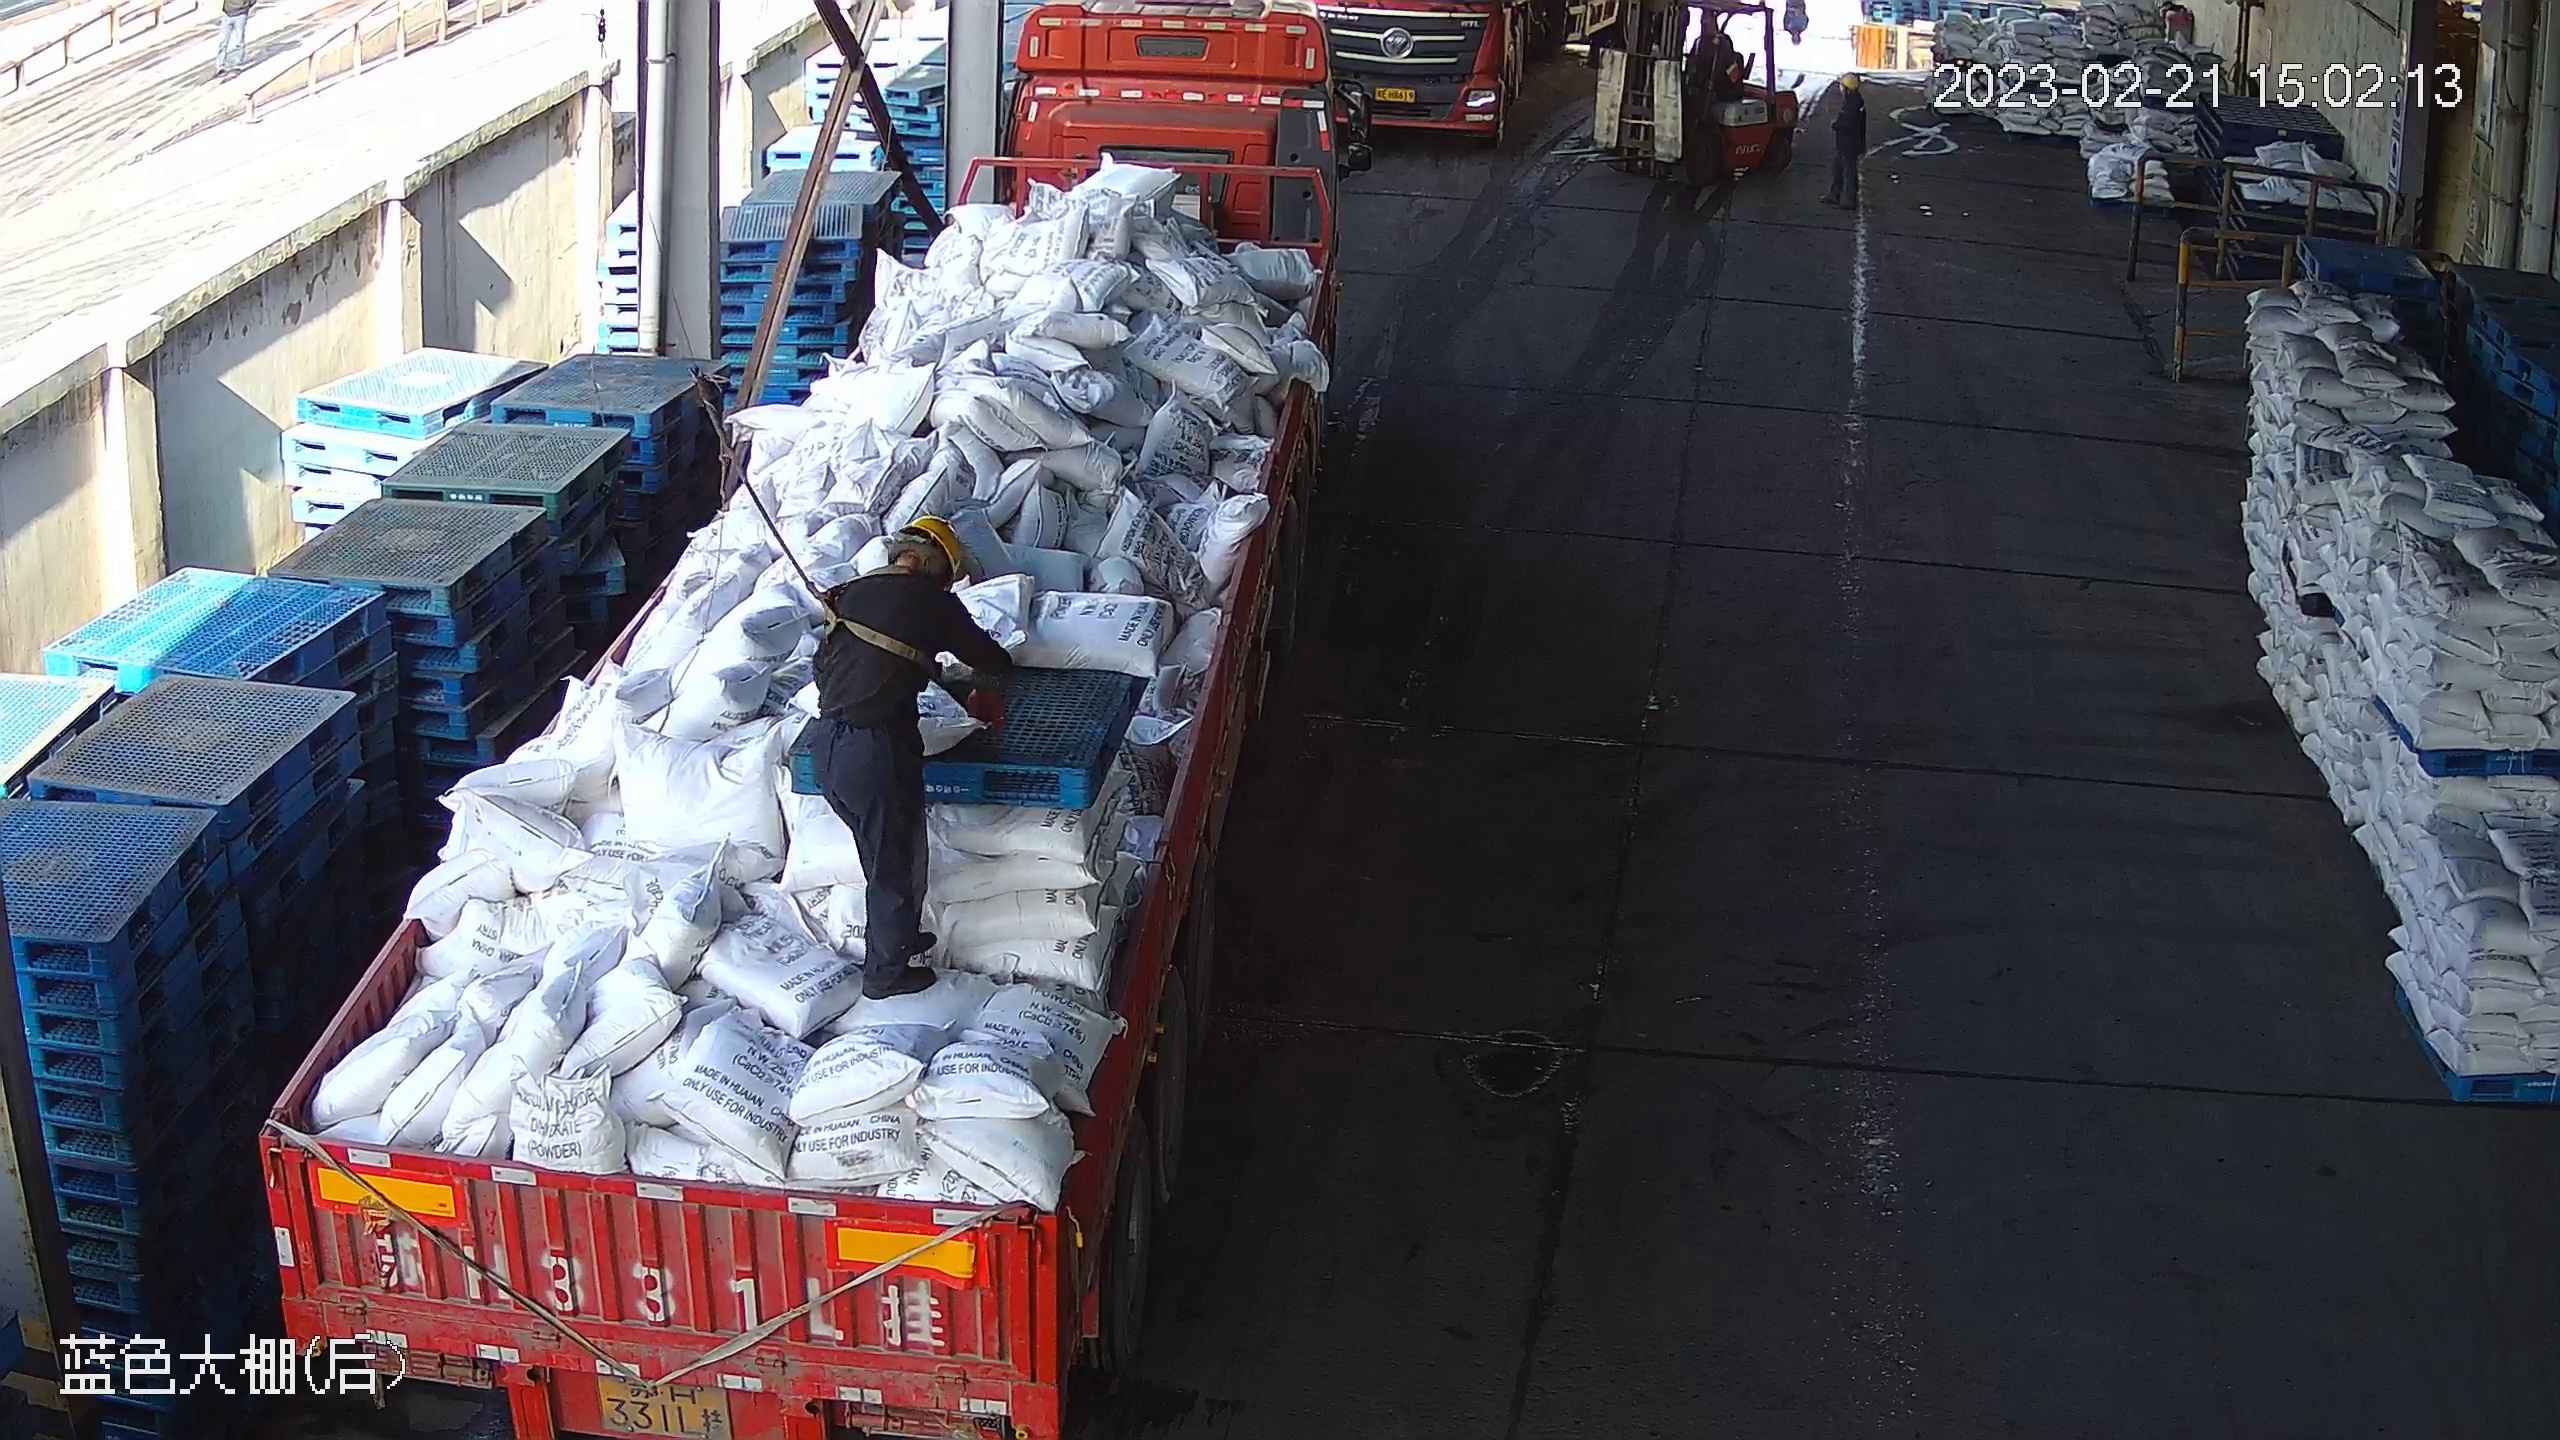belt: (793, 564, 923, 690)
head: (849, 508, 979, 623), (1827, 69, 1865, 122)
helmet: (907, 509, 967, 586), (1830, 74, 1856, 92)
people: (781, 492, 1014, 999), (1827, 69, 1874, 216)
truck: (251, 1, 1356, 1437)
